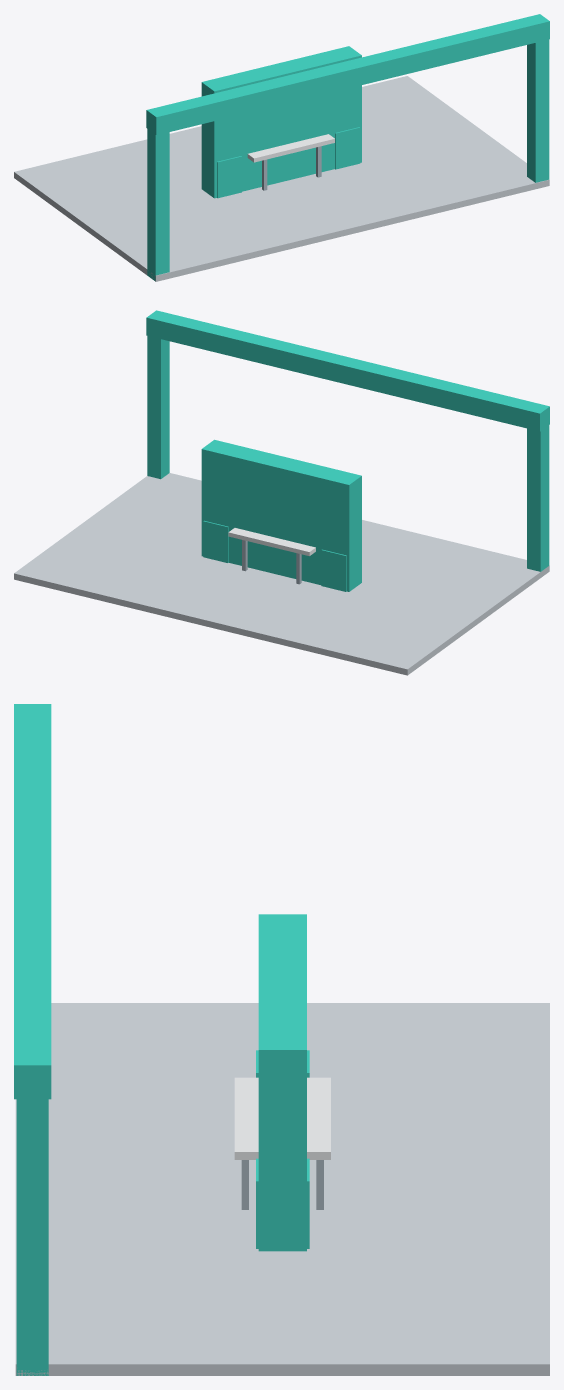
The picture shows the model from 3 angles, top to bottom: view 1: azimuth 30°, elevation 25°; view 2: azimuth 150°, elevation 25°; view 3: azimuth 270°, elevation 25°; orthographic projection. The views are drawn at different scales.
Parts seen in each view (by area): view 1: Exhibition Booth Concept; view 2: Exhibition Booth Concept; view 3: Exhibition Booth Concept.
Part boxes in pixels (x1,y1,x2,y2): Exhibition Booth Concept: (14,14,549,281); Exhibition Booth Concept: (14,310,549,675); Exhibition Booth Concept: (14,704,549,1375).
Bounding box in the file's own units: 8 × 3.2 × 5.02.
